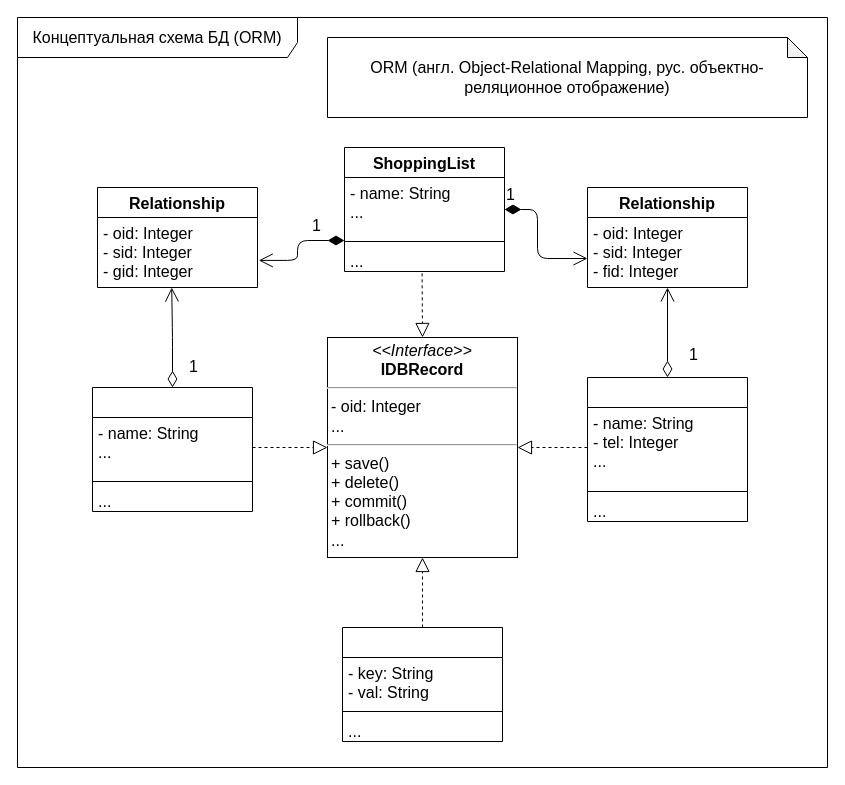
Some shapes in this 845 by 785 pixel diagram are drawn without their labels. The shapes that lost their labels are listed below. From the top down, each one's box as (x1, y1, x2, y2) in pixels, then its label:
(92, 386, 252, 512): Goods
(586, 376, 748, 522): Friends
(342, 626, 502, 742): Settings
